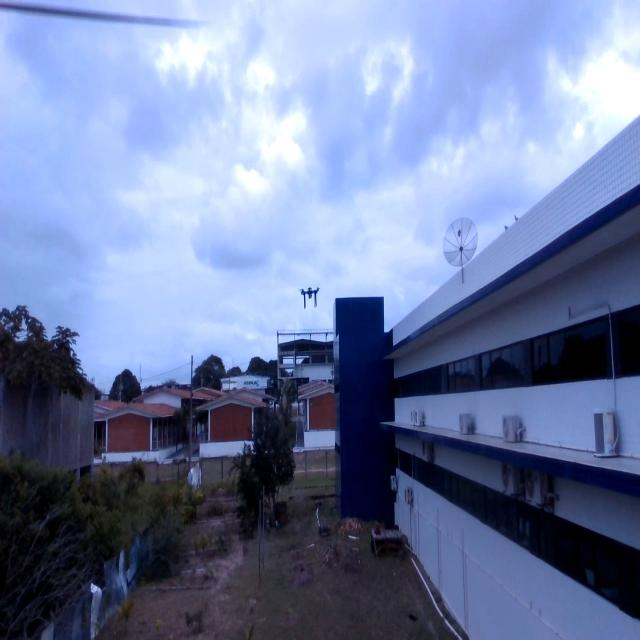-uav-: (294, 277, 327, 319)
